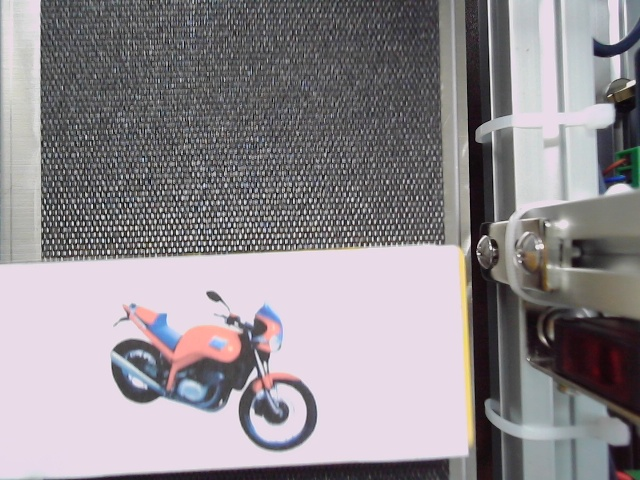motorcycle: (115, 289, 320, 454)
